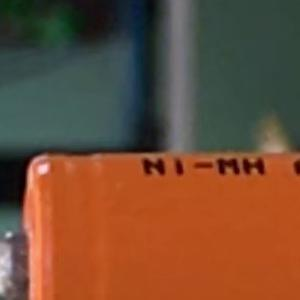NI-MH: (133, 148, 274, 184)
